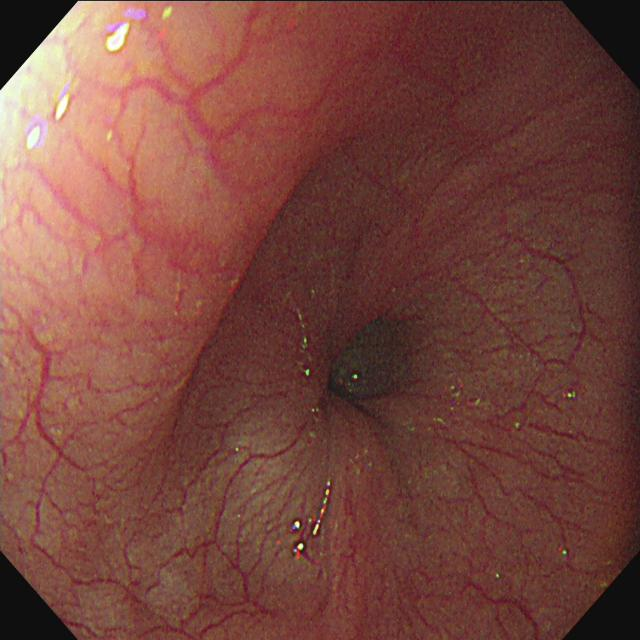E: (308, 311, 419, 420)
U: (107, 8, 148, 56), (312, 478, 331, 538), (25, 122, 46, 151), (53, 95, 71, 124), (293, 543, 307, 560), (292, 520, 301, 532)
